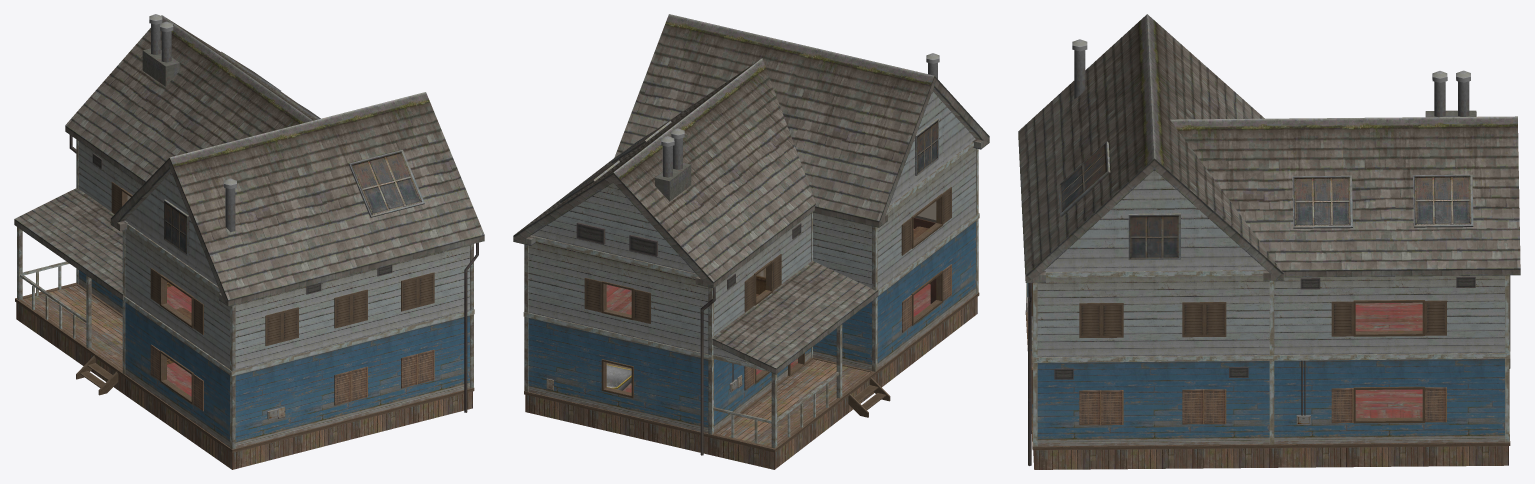
The model's file is free_fire_house.glb.
3 views of the same model, side by side, from view 1: azimuth 30°, elevation 25°; view 2: azimuth 150°, elevation 25°; view 3: azimuth 270°, elevation 25° (orthographic). The views are drawn at different scales.
Visible parts, largest first — view 1: concrete_wall_01D_D_MT_Concrete_Wall_01D_D.025_0_12, wood_wall_01_D_MT_Wood_Wall_01_D.027_0_10, wood_house_01A_D_MT_Wood_House_01A_D.031_0_4; view 2: concrete_wall_01D_D_MT_Concrete_Wall_01D_D.025_0_12, wood_wall_01_D_MT_Wood_Wall_01_D.027_0_10, wood_house_01A_D_MT_Wood_House_01A_D.031_0_4, bed items_MT_Others_Props_01_D.068_0_8; view 3: concrete_wall_01D_D_MT_Concrete_Wall_01D_D.025_0_12, wood_wall_01_D_MT_Wood_Wall_01_D.027_0_10, wood_house_01A_D_MT_Wood_House_01A_D.031_0_4.
Part boxes in pixels (left/top/right/bottom): concrete_wall_01D_D_MT_Concrete_Wall_01D_D.025_0_12: left=14, top=14, right=484, bottom=419; wood_wall_01_D_MT_Wood_Wall_01_D.027_0_10: left=17, top=139, right=474, bottom=449; wood_house_01A_D_MT_Wood_House_01A_D.031_0_4: left=15, top=182, right=474, bottom=469; concrete_wall_01D_D_MT_Concrete_Wall_01D_D.025_0_12: left=513, top=14, right=989, bottom=455; wood_wall_01_D_MT_Wood_Wall_01_D.027_0_10: left=523, top=91, right=979, bottom=448; wood_house_01A_D_MT_Wood_House_01A_D.031_0_4: left=524, top=187, right=979, bottom=469; bed items_MT_Others_Props_01_D.068_0_8: left=606, top=218, right=936, bottom=390; concrete_wall_01D_D_MT_Concrete_Wall_01D_D.025_0_12: left=1018, top=14, right=1520, bottom=465; wood_wall_01_D_MT_Wood_Wall_01_D.027_0_10: left=1026, top=170, right=1510, bottom=446; wood_house_01A_D_MT_Wood_House_01A_D.031_0_4: left=1025, top=283, right=1510, bottom=469.
Size of the model in its own units: 11.29 by 11.28 by 15.64.
5 materials, 5 textured.
